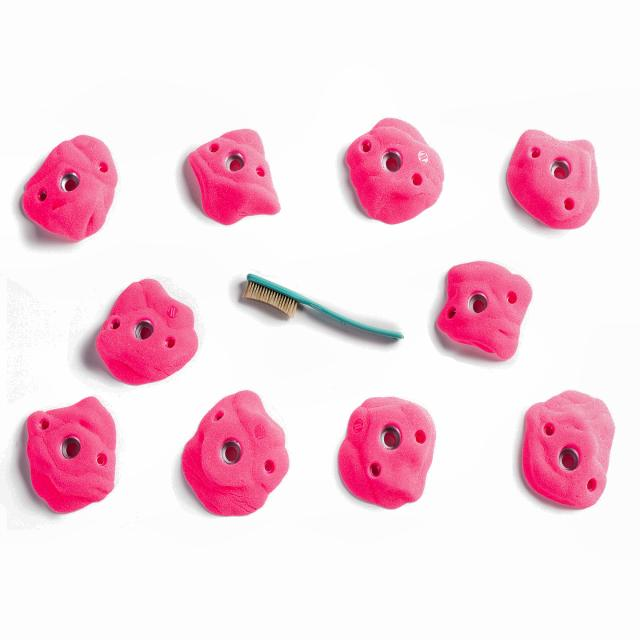Hold: (498, 389, 616, 531), (178, 386, 294, 528), (19, 399, 131, 528), (16, 125, 122, 251), (423, 256, 538, 367), (91, 272, 202, 386), (342, 400, 441, 514), (338, 122, 455, 218), (501, 130, 601, 238), (180, 124, 281, 221)
